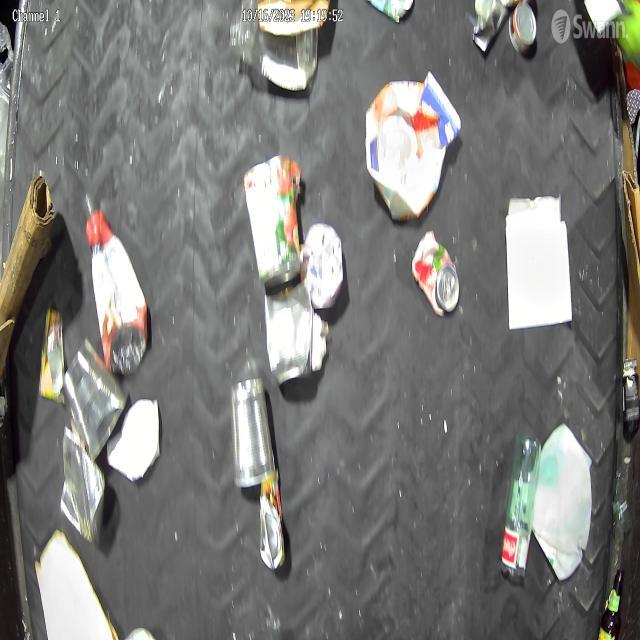can: (242, 149, 306, 286), (61, 338, 128, 468), (59, 424, 108, 549), (228, 374, 278, 494), (264, 276, 314, 389), (409, 230, 461, 321), (258, 472, 288, 572), (506, 1, 538, 54)
plastic_bottle: (228, 0, 320, 93)
